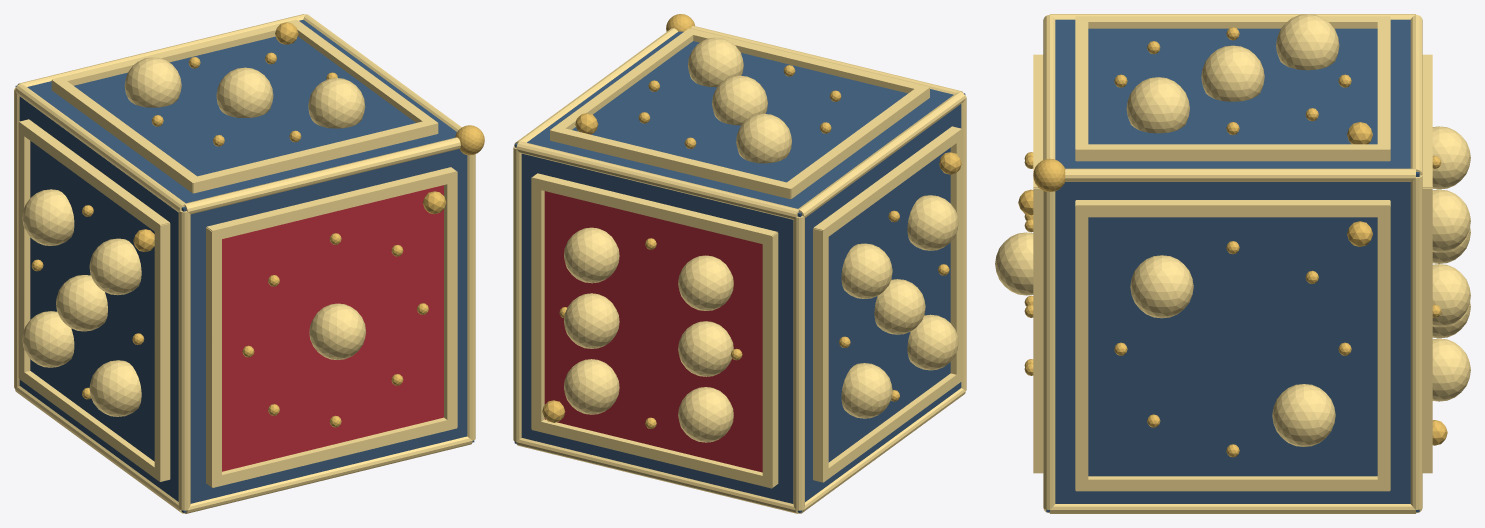
The model's file is Royal_India_Royal_Jewel_Dice.glb.
3 renders of one model, left to right at view 1: azimuth 30°, elevation 25°; view 2: azimuth 150°, elevation 25°; view 3: azimuth 270°, elevation 25°, orthographic. The views are drawn at different scales.
Parts seen in each view (by area): view 1: face_1_sapphire_inlay, midnight_blue_die_body, face_3_sapphire_inlay, face_5_sapphire_inlay, face_5_vertical_gold_bezel_0.405, face_1_horizontal_gold_bezel_0.405, face_3_horizontal_gold_bezel_-0.405, face_1_vertical_gold_bezel_-0.405, horizontal_gold_edge_-0.49_0.49, depth_gold_edge_0.49_0.49, face_1_horizontal_gold_bezel_-0.405, face_1_vertical_gold_bezel_0.405 (+23 smaller); view 2: face_6_sapphire_inlay, midnight_blue_die_body, face_3_sapphire_inlay, face_5_sapphire_inlay, face_6_vertical_gold_bezel_-0.405, face_5_vertical_gold_bezel_-0.405, face_6_horizontal_gold_bezel_-0.405, face_3_horizontal_gold_bezel_0.405, depth_gold_edge_0.49_-0.49, horizontal_gold_edge_-0.49_-0.49, face_6_vertical_gold_bezel_0.405, face_6_horizontal_gold_bezel_0.405 (+27 smaller); view 3: face_2_sapphire_inlay, midnight_blue_die_body, face_3_sapphire_inlay, face_2_horizontal_gold_bezel_0.405, face_3_vertical_gold_bezel_0.405, face_2_horizontal_gold_bezel_-0.405, vertical_gold_edge_0.49_0.49, horizontal_gold_edge_0.49_-0.49, horizontal_gold_edge_0.49_0.49, face_2_vertical_gold_bezel_0.405, face_2_vertical_gold_bezel_-0.405, vertical_gold_edge_0.49_-0.49 (+21 smaller).
Boxes of the visible parts, x1,y1,x2,y2 form: face_1_sapphire_inlay: (222,185,443,471); midnight_blue_die_body: (15,19,474,512); face_3_sapphire_inlay: (74,36,415,176); face_5_sapphire_inlay: (30,141,154,461); face_5_vertical_gold_bezel_0.405: (154,223,170,481); face_1_horizontal_gold_bezel_0.405: (207,167,456,241); face_3_horizontal_gold_bezel_-0.405: (189,119,437,193); face_1_vertical_gold_bezel_-0.405: (206,227,221,487); horizontal_gold_edge_-0.49_0.49: (178,210,190,510); depth_gold_edge_0.49_0.49: (184,137,460,214); face_1_horizontal_gold_bezel_-0.405: (212,417,456,487); face_1_vertical_gold_bezel_0.405: (444,171,457,429); face_6_sapphire_inlay: (544,191,762,472); midnight_blue_die_body: (514,31,965,512); face_3_sapphire_inlay: (572,41,907,182); face_5_sapphire_inlay: (828,147,950,462); face_6_vertical_gold_bezel_-0.405: (762,232,778,487); face_5_vertical_gold_bezel_-0.405: (813,228,828,481); face_6_horizontal_gold_bezel_-0.405: (532,173,777,245); face_3_horizontal_gold_bezel_0.405: (550,126,795,198); depth_gold_edge_0.49_-0.49: (516,141,798,219); horizontal_gold_edge_-0.49_-0.49: (793,216,804,510); face_6_vertical_gold_bezel_0.405: (531,177,544,431); face_6_horizontal_gold_bezel_0.405: (532,419,771,488); face_2_sapphire_inlay: (1088,217,1377,476); midnight_blue_die_body: (1046,19,1419,512); face_3_sapphire_inlay: (1088,28,1377,144); face_2_horizontal_gold_bezel_0.405: (1076,200,1389,217); face_3_vertical_gold_bezel_0.405: (1076,144,1389,161); face_2_horizontal_gold_bezel_-0.405: (1076,476,1389,491); vertical_gold_edge_0.49_0.49: (1065,168,1415,181); horizontal_gold_edge_0.49_-0.49: (1410,175,1422,509); horizontal_gold_edge_0.49_0.49: (1043,191,1055,509); face_2_vertical_gold_bezel_0.405: (1377,200,1390,490); face_2_vertical_gold_bezel_-0.405: (1075,200,1088,490); vertical_gold_edge_0.49_-0.49: (1050,504,1415,513).
Bounding box in the file's own units: 1.27 × 1.27 × 1.27.
